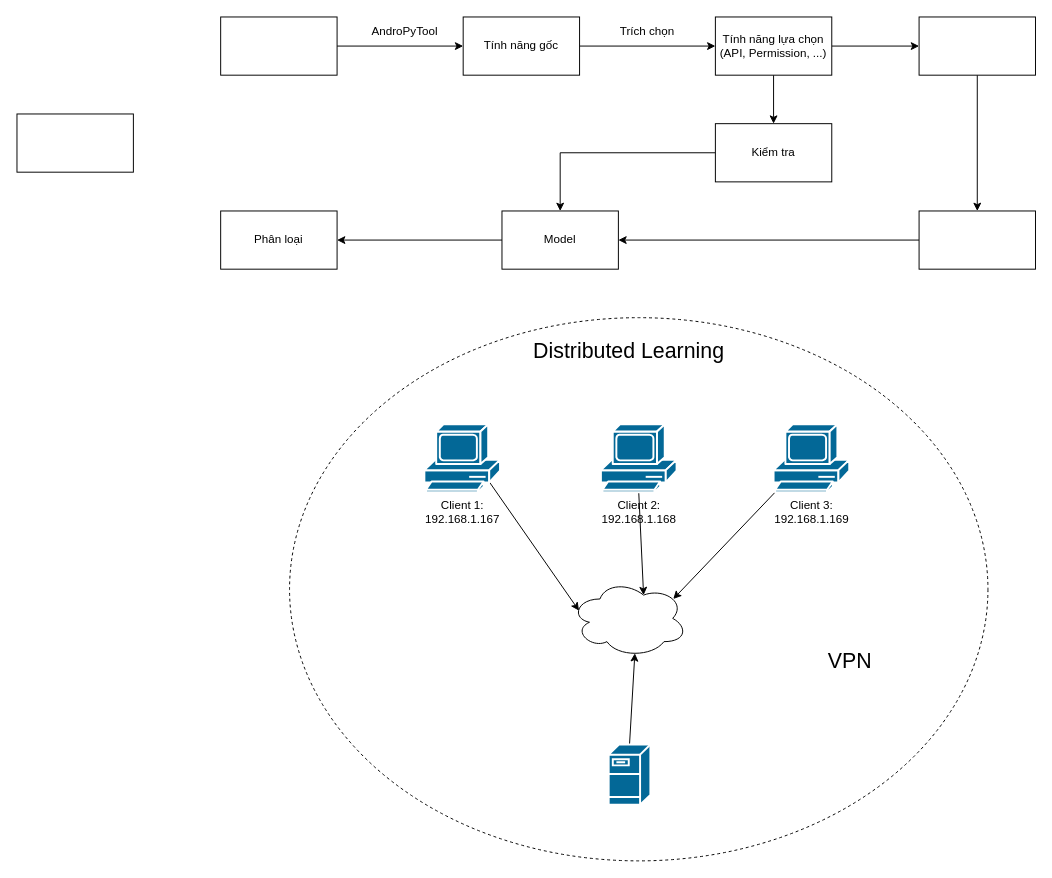
This 1052x878 diagram has some shape labels left out. Here are the shapes that lost their labels. From the top down, the centre of each, then its label:
At point 278,45: "File APK".
At point 976,45: "Huấn luyện".
At point 976,239: "Học sâu".
At point 629,774: "Server: 172.16.209.6".
